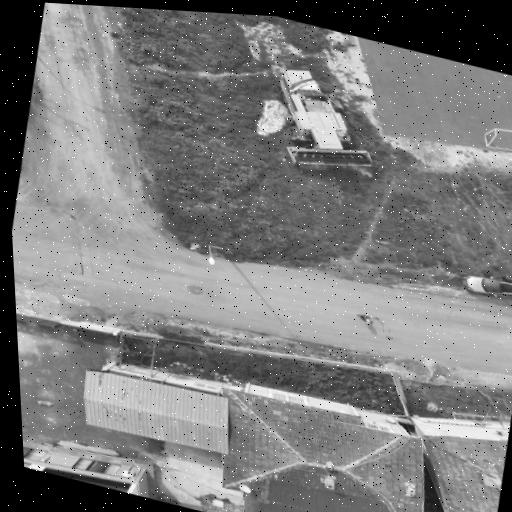car: (462, 275, 511, 296)
harvester: (279, 69, 370, 167)
person: (357, 313, 372, 322), (501, 275, 511, 280)
